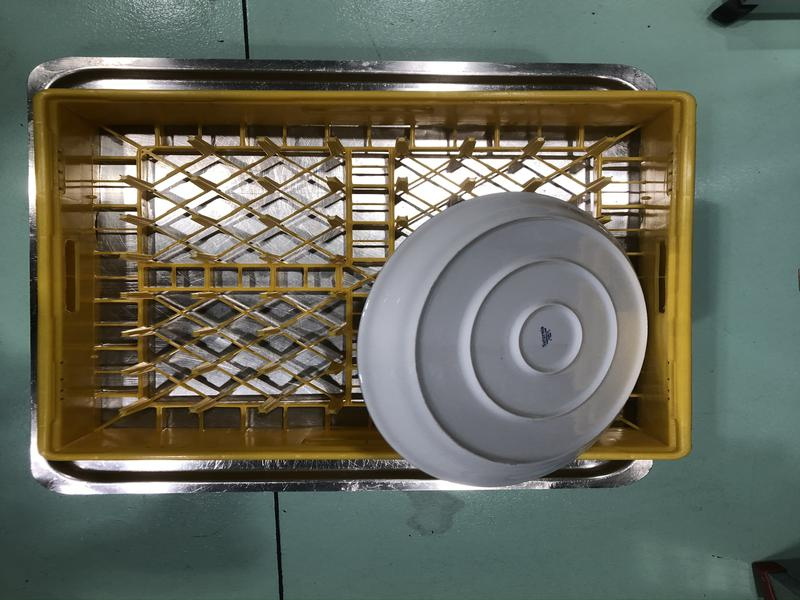Inclined_dish: (346, 193, 644, 486)
